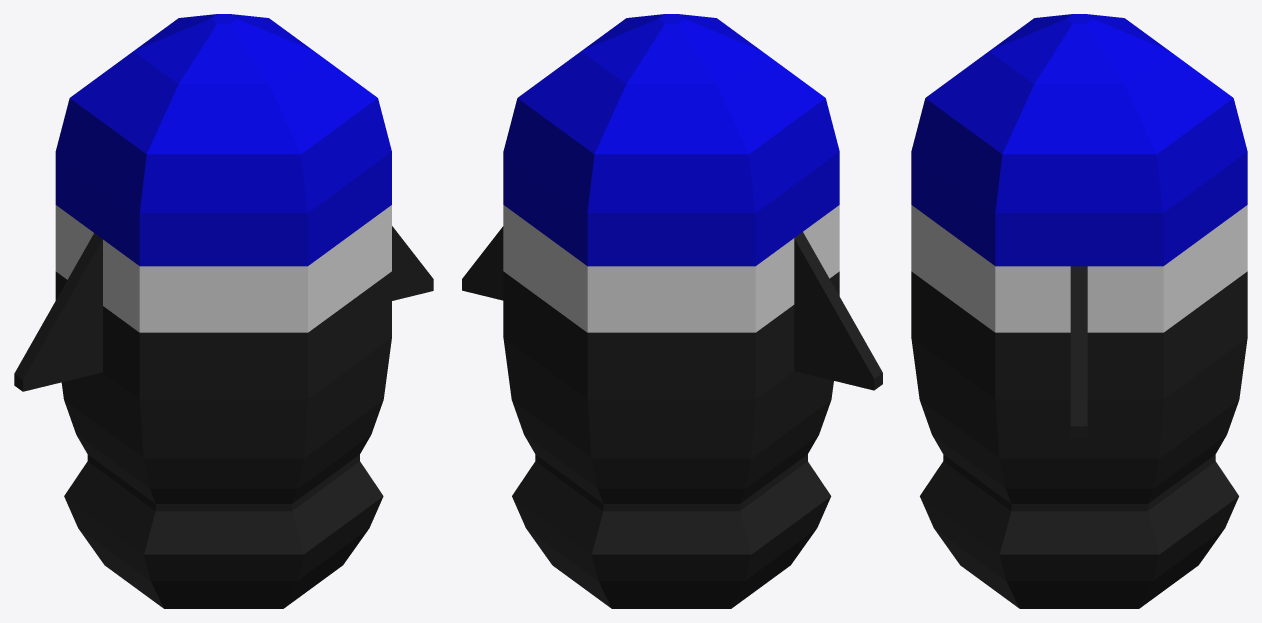
The model's file is invincible.fbx.
The picture shows the model from 3 angles, left to right: view 1: azimuth 30°, elevation 25°; view 2: azimuth 150°, elevation 25°; view 3: azimuth 270°, elevation 25°; orthographic projection.
Visible parts, largest first — view 1: Cone; view 2: Cone; view 3: Cone.
Boxes of the visible parts, bbox=[...] form: Cone: bbox=[14, 14, 433, 608]; Cone: bbox=[462, 14, 882, 608]; Cone: bbox=[911, 14, 1247, 608].
Bounding box in the file's own units: 398 × 506 × 282.
